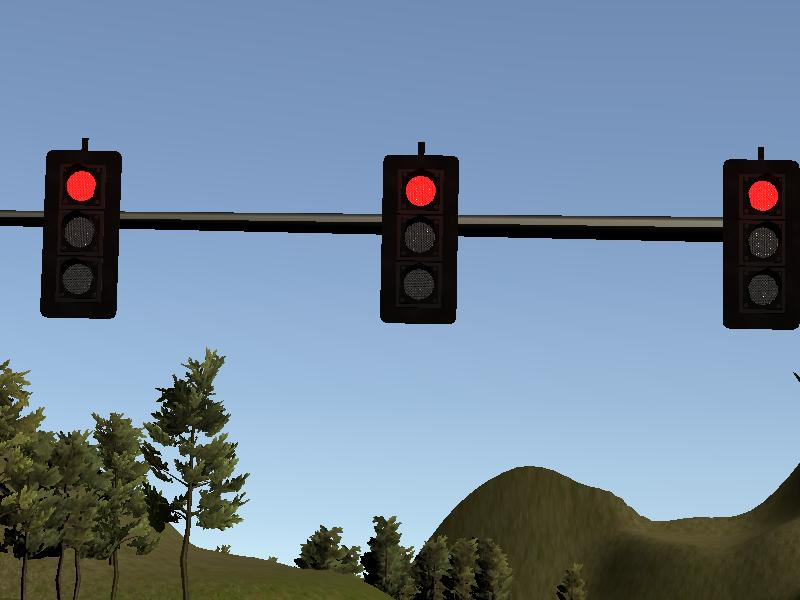red: (380, 155, 458, 325), (722, 159, 800, 329), (41, 151, 119, 320)
